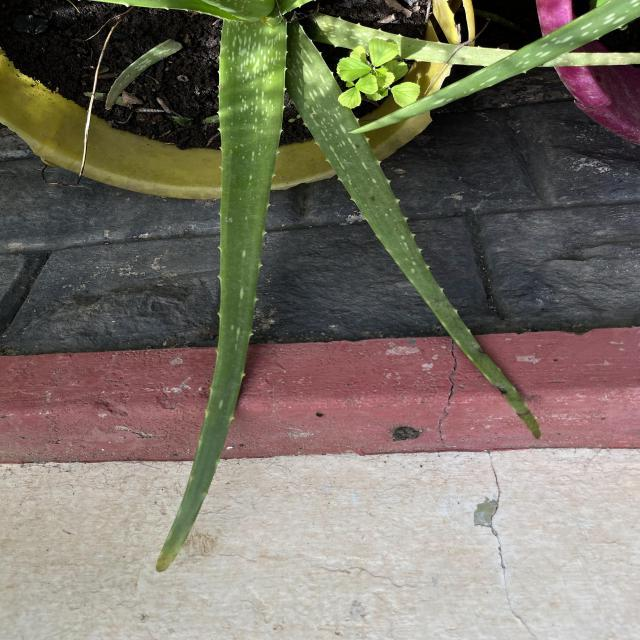Aloe vera: (150, 11, 292, 578)
